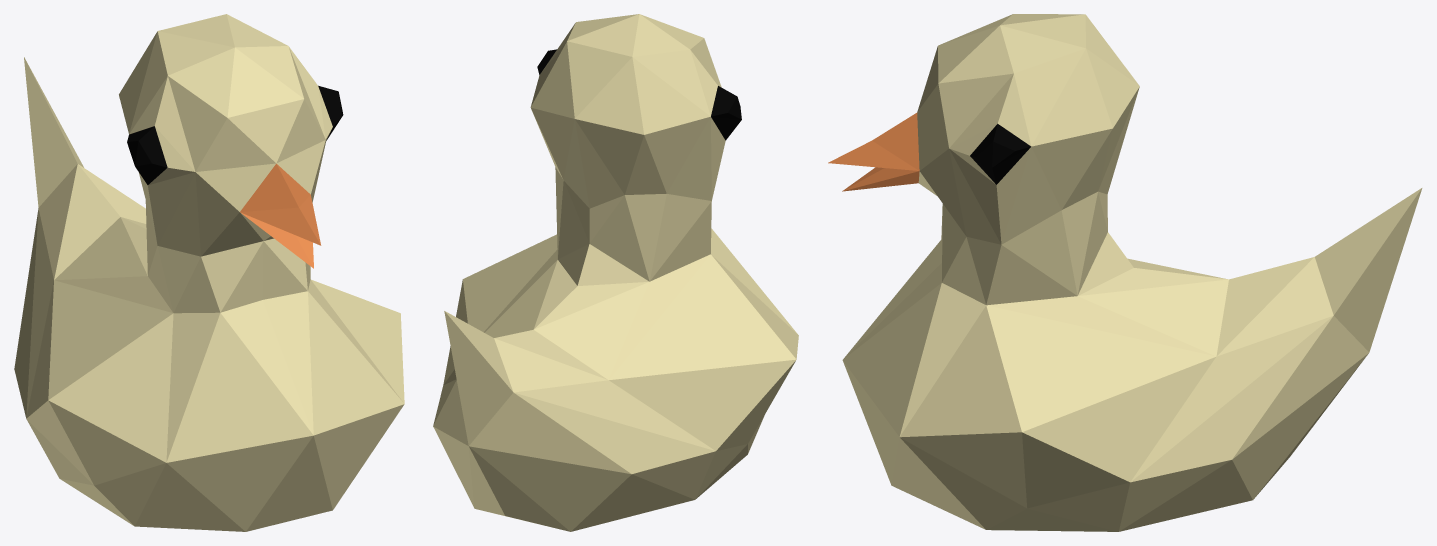
Rendered from DUCK.glb.
3 views of the same model, side by side, from view 1: azimuth 30°, elevation 25°; view 2: azimuth 150°, elevation 25°; view 3: azimuth 270°, elevation 25° (orthographic). The views are drawn at different scales.
Visible parts, largest first — view 1: Vert; view 2: Vert; view 3: Vert.
Part boxes in pixels (x1,y1,x2,y2): Vert: (14,14,404,531); Vert: (433,14,798,531); Vert: (828,14,1422,531).
Size of the model in its own units: 1 by 1.27 by 1.45.
